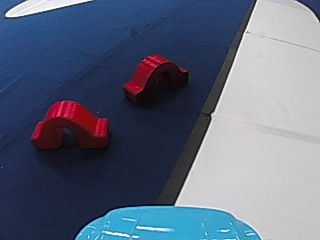bridge: (28, 96, 111, 153), (119, 50, 189, 107)
